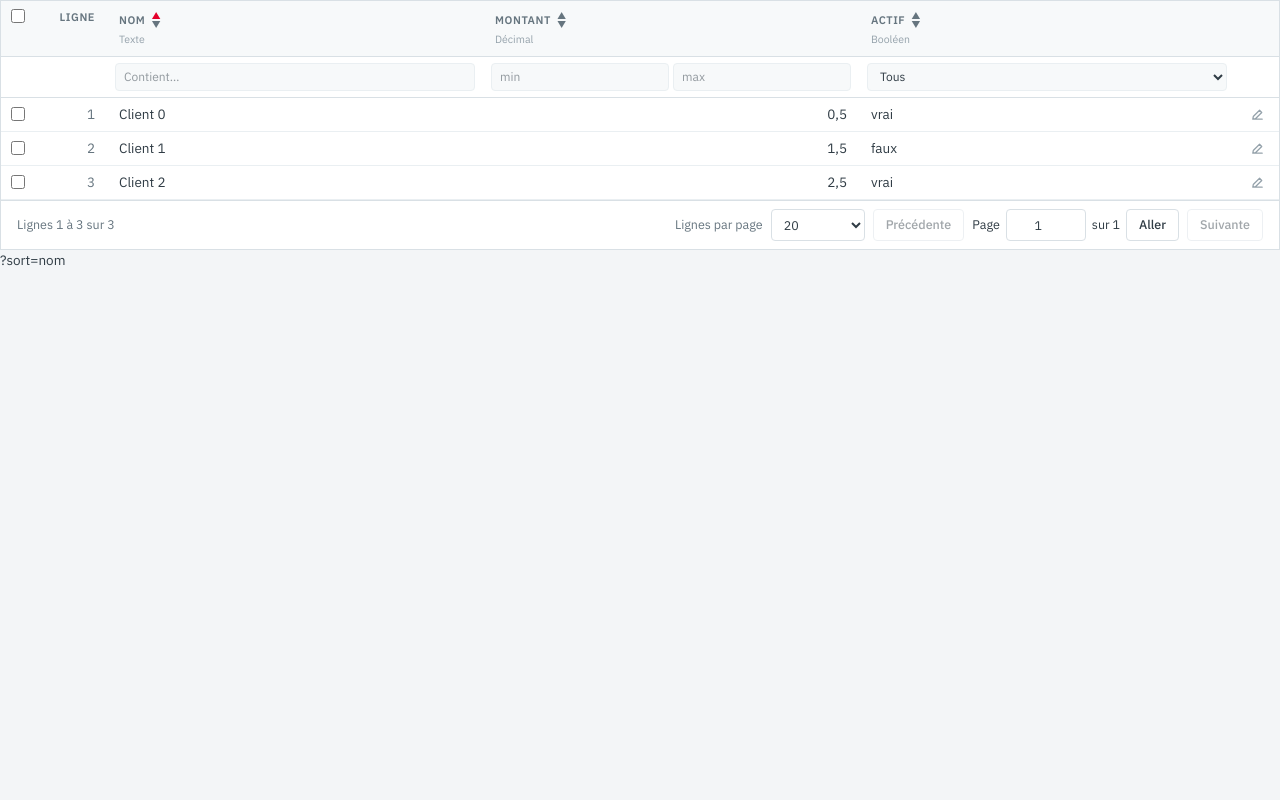
Test case: modifie une ligne après récapitulatif, sans envoyer les champs inchangés
The image size is (1280, 800).
expect the text "Lignes 1 à 3 sur 3" is shown: met, box [17,215,115,234]
Step 1. Click the button named "Modifier la ligne 1" → (1257, 114), box [1243,100,1271,128]
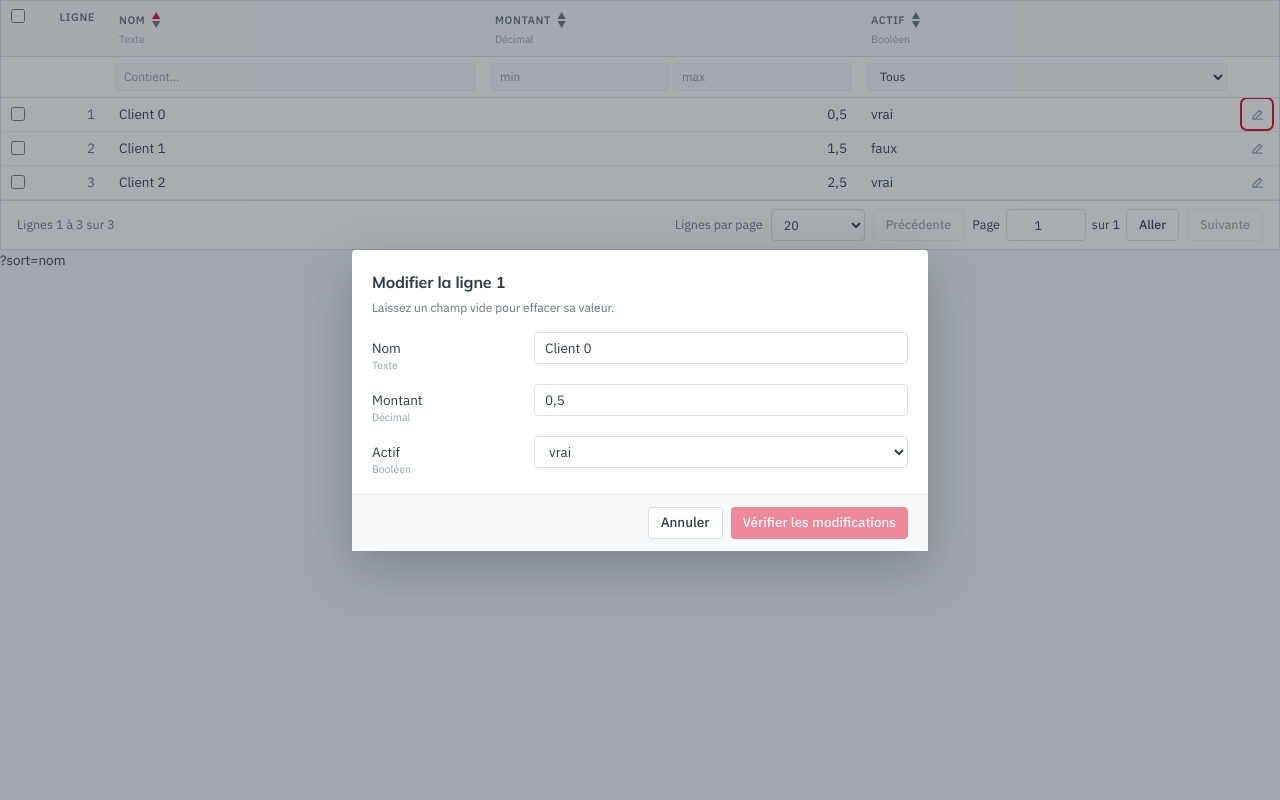
expect the button "Vérifier les modifications" is disabled: met, box [730,506,908,538]
Step 2. Replace the text in the field labelled "Nom Texte" with "Zoé" → (721, 348), box [534,332,908,364]
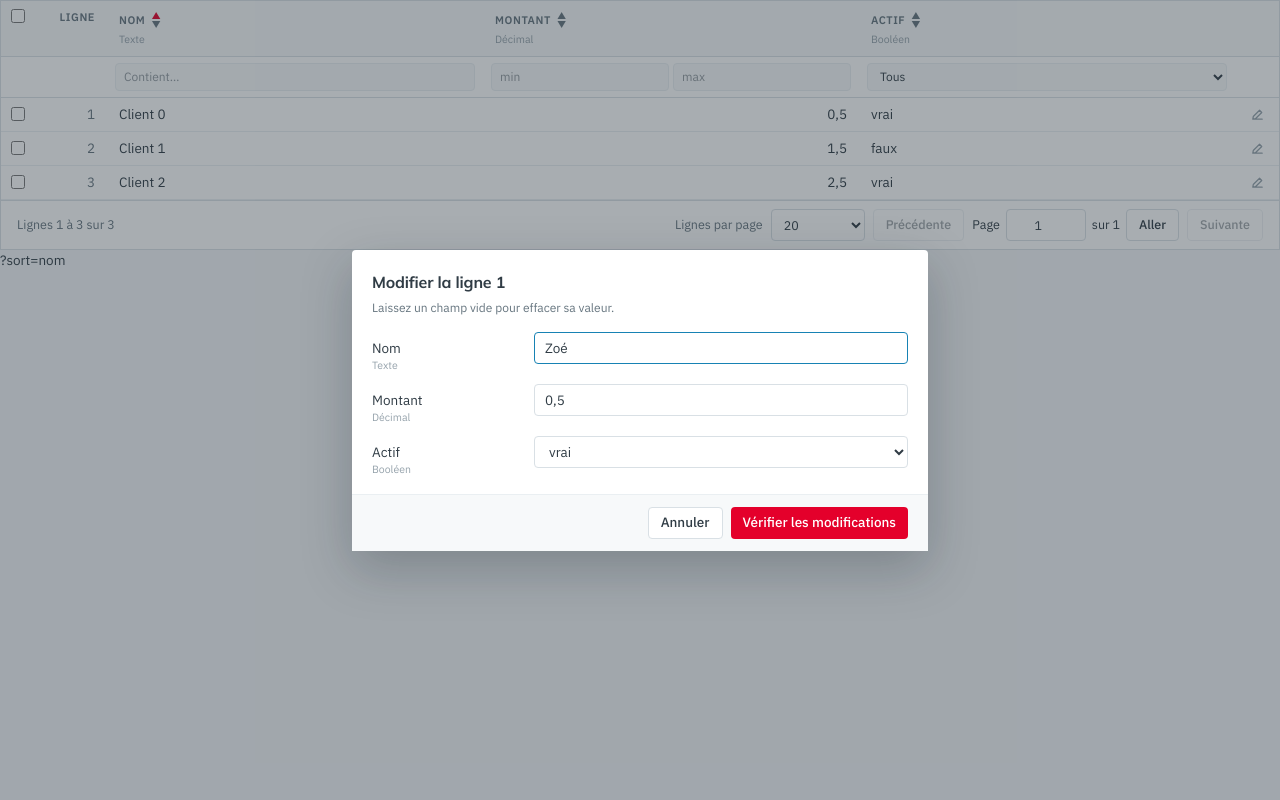
Step 3. Click the button "Vérifier les modifications" → (819, 522), box [730,506,908,538]
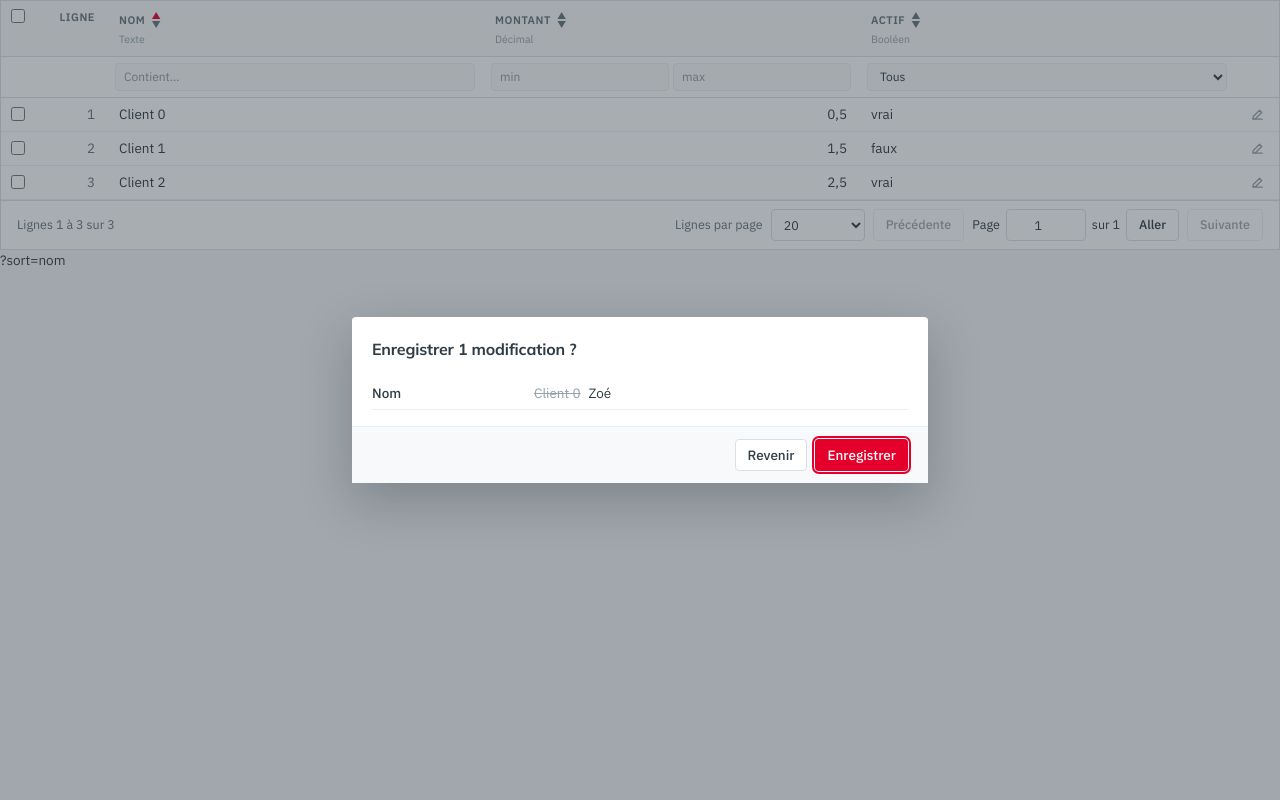
expect the dialog named "Modifier la ligne 1" shows "Client 0Zoé": met, box [352,317,928,483]
Step 4. Click the button "Enregistrer" → (862, 455), box [816,439,908,471]
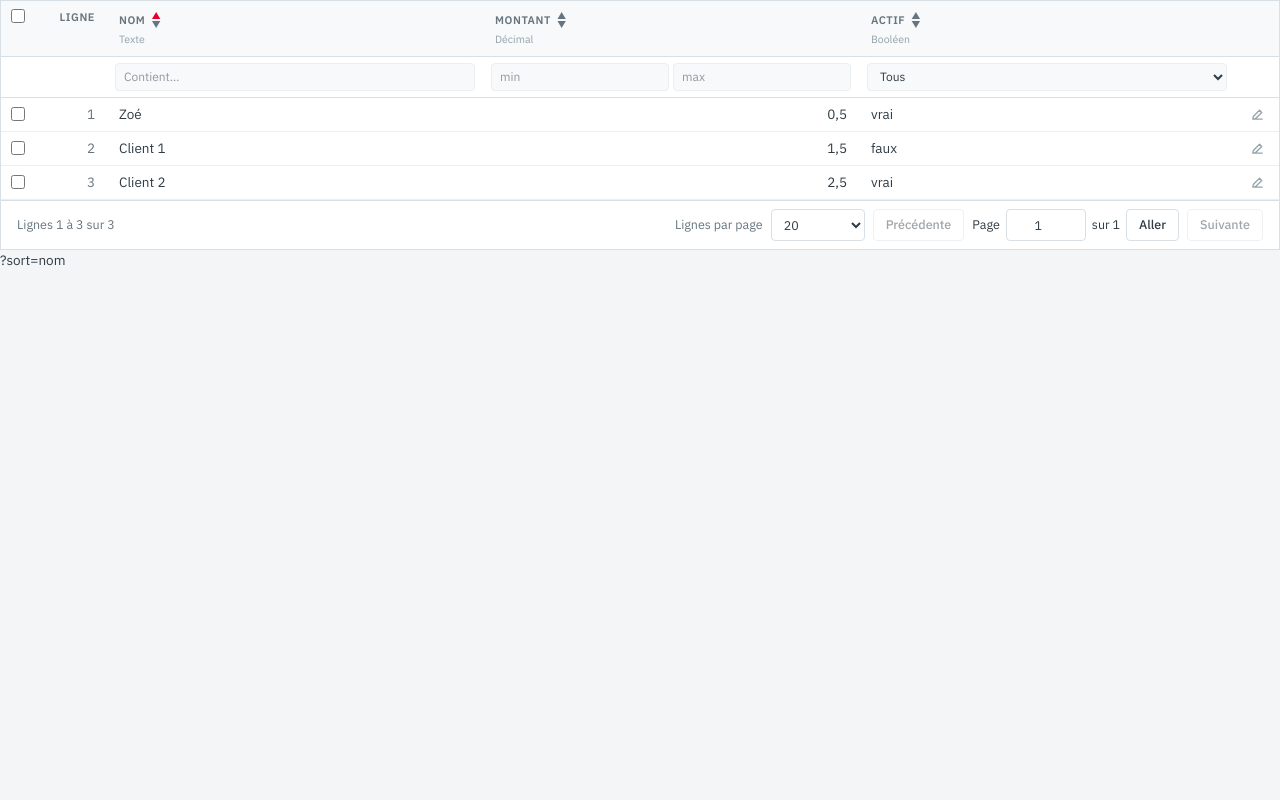
expect the text named "url" shows "sort=nom": met, box [0,251,65,269]
expect the dialog is gone: met
